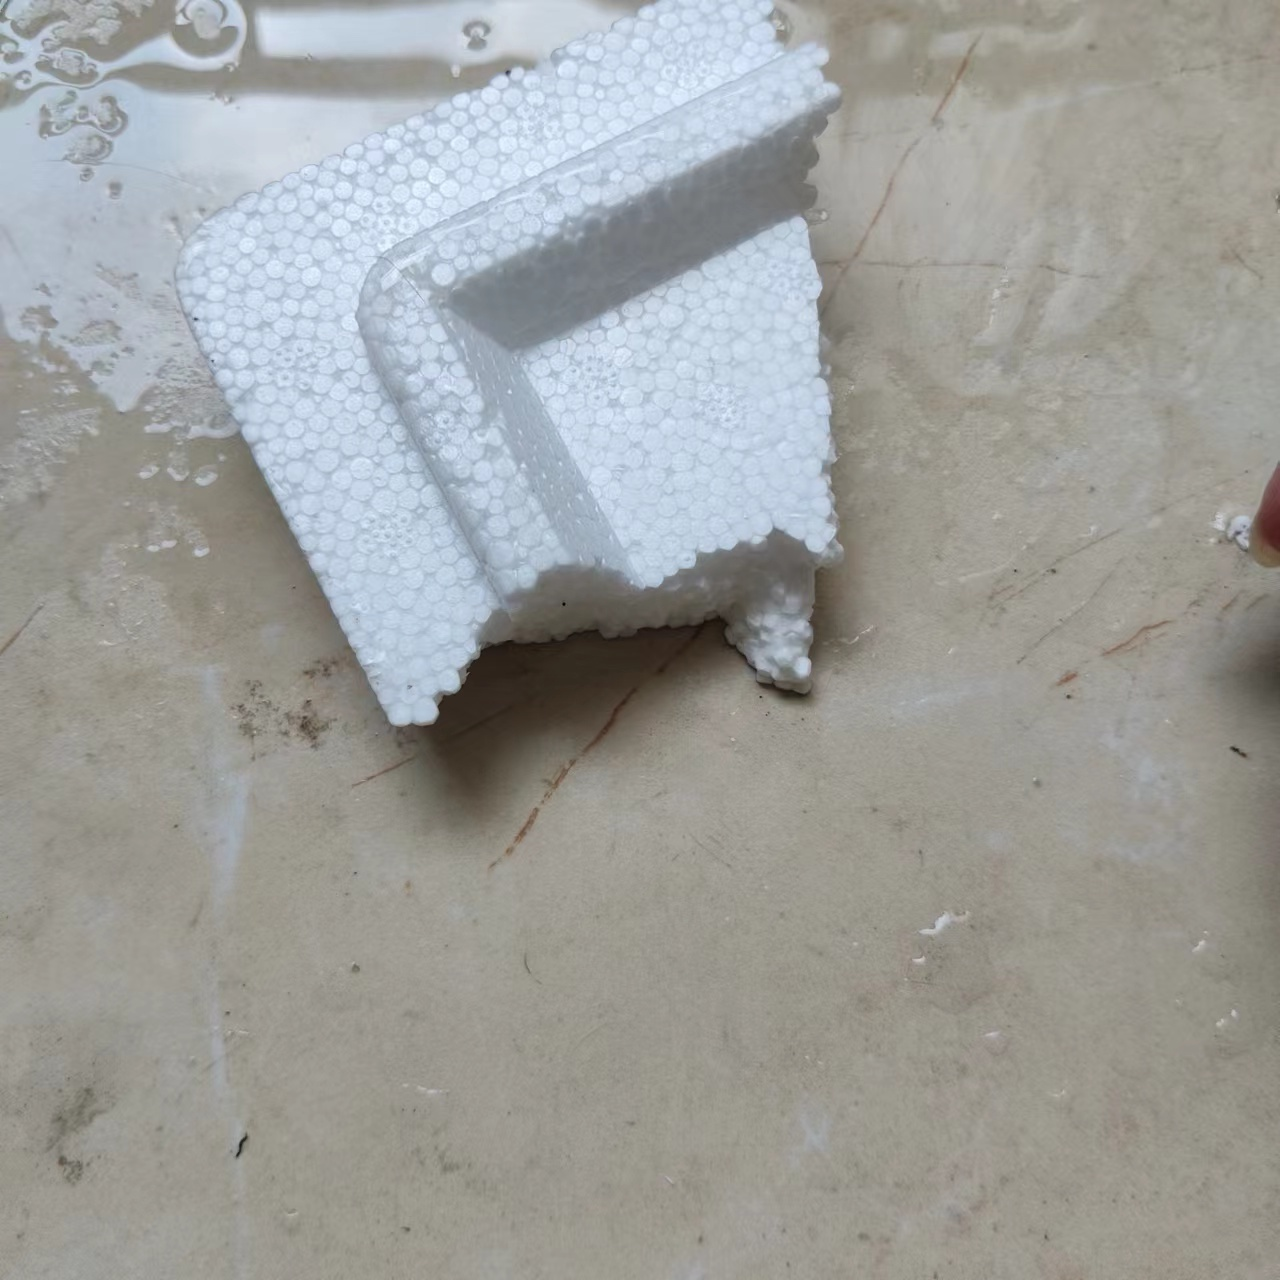5/可回收垃圾/泡沫: (175, 1, 845, 728)
